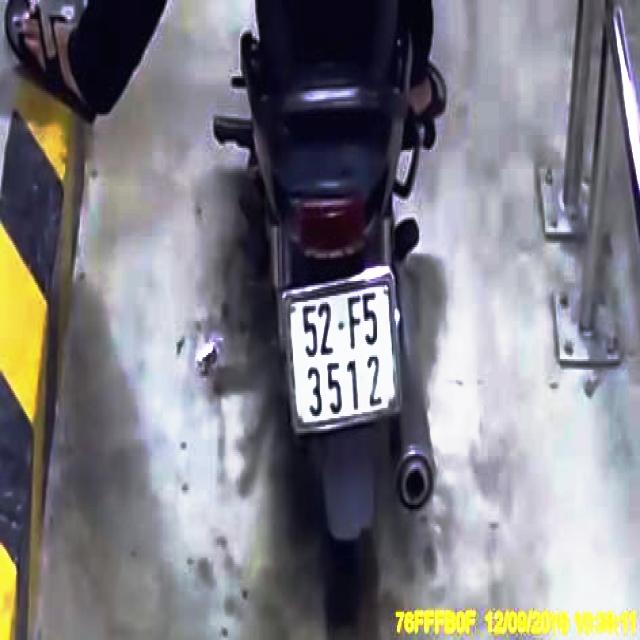license_plate: (291, 281, 396, 424)
